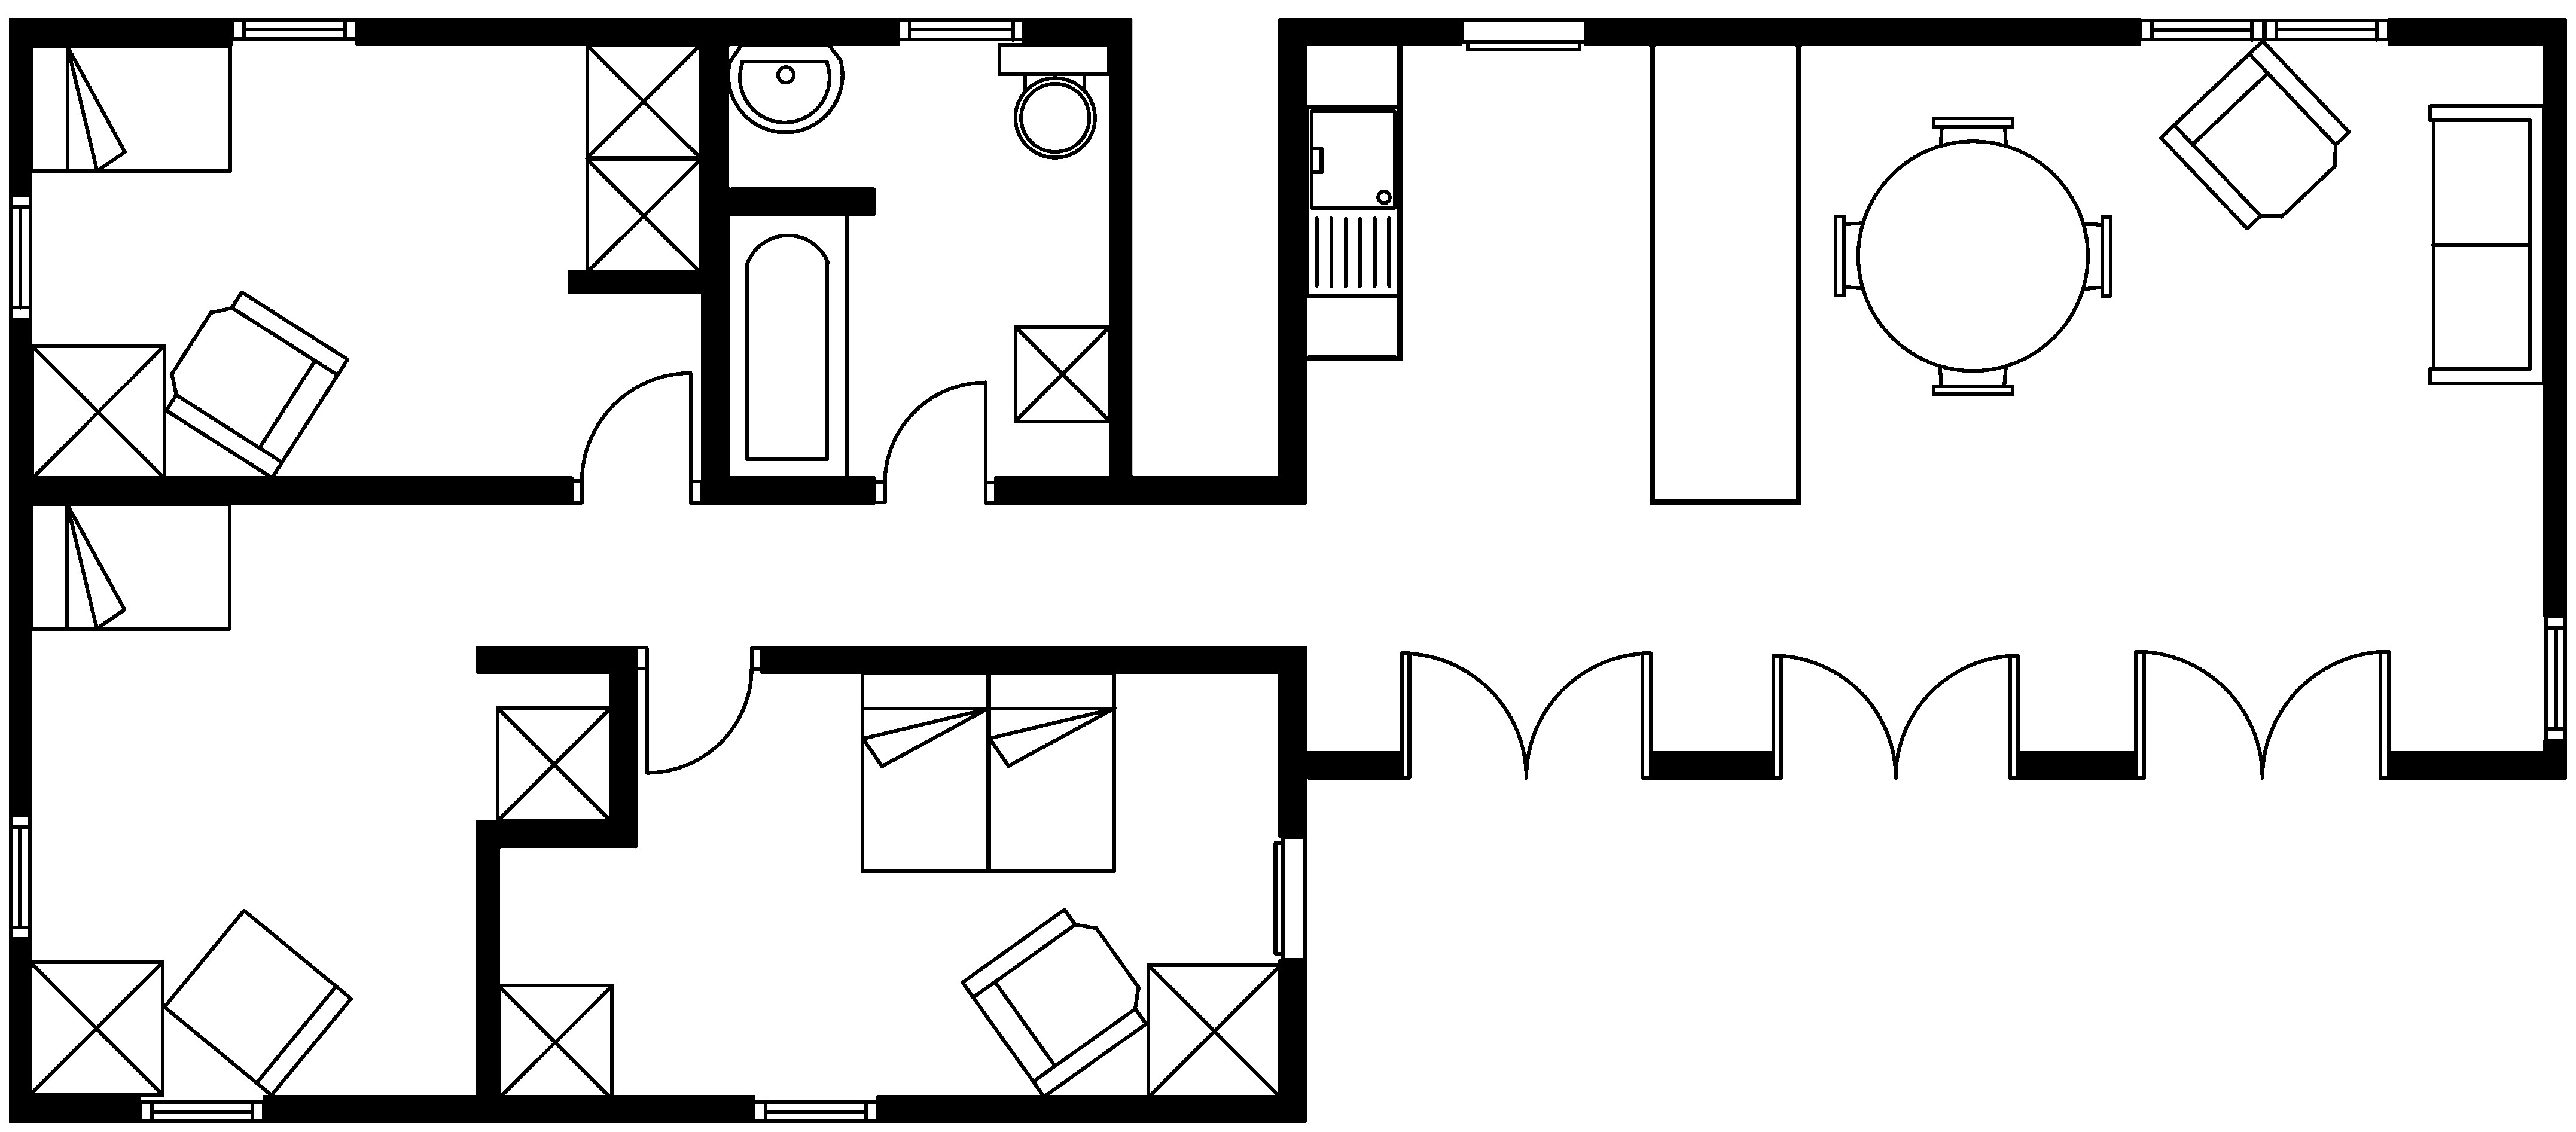armchair: (2159, 38, 2351, 230), (959, 907, 1148, 1099), (163, 289, 350, 480)
bed: (30, 43, 232, 174), (859, 670, 991, 872), (986, 670, 1117, 872), (28, 501, 232, 631)
coffee_table: (26, 959, 164, 1097), (1145, 963, 1283, 1099), (30, 343, 166, 480), (494, 982, 614, 1101), (583, 41, 702, 161), (494, 705, 613, 823), (585, 156, 702, 274), (1012, 324, 1112, 424)
large_sink: (997, 41, 1111, 158)
large_sofa: (2428, 104, 2545, 384)
round_table: (1832, 115, 2113, 396)
sink: (1304, 104, 1401, 297)
small_sink: (726, 43, 843, 133)
small_sofa: (161, 909, 353, 1097)
tub: (726, 210, 849, 483)
